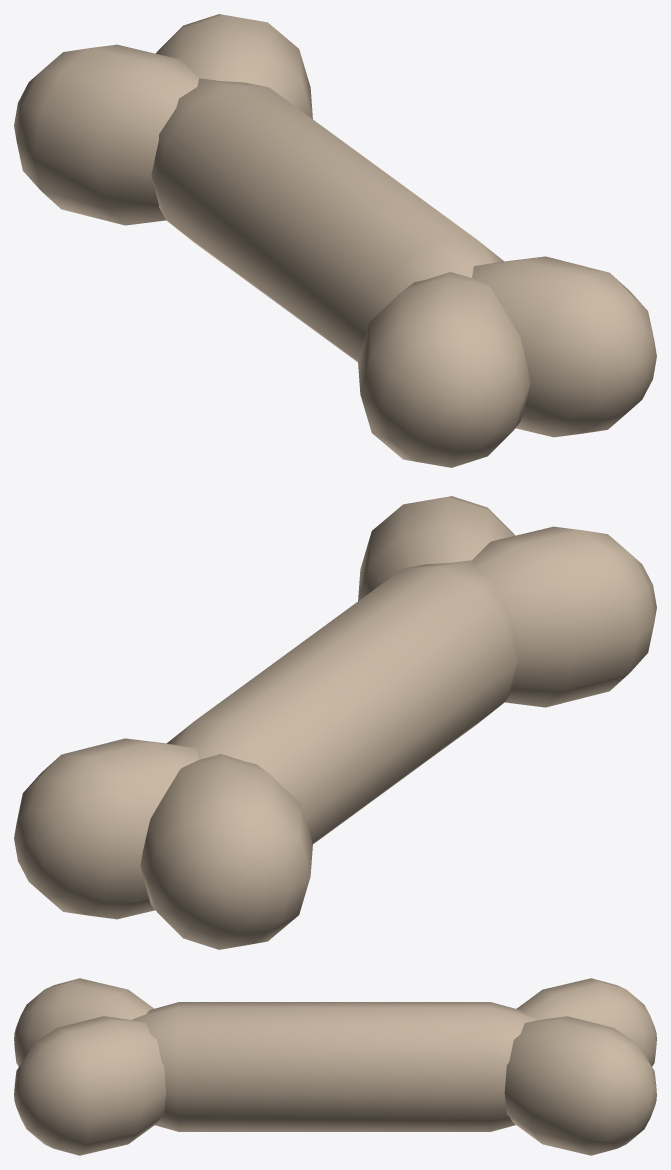
Rendered from Bone 1.fbx.
3 views of the same model, one above another, from view 1: azimuth 30°, elevation 25°; view 2: azimuth 150°, elevation 25°; view 3: azimuth 270°, elevation 25° (orthographic). The views are drawn at different scales.
Visible parts, largest first — view 1: Cylinder.005; view 2: Cylinder.005; view 3: Cylinder.005.
Part boxes in pixels (bbox=[...]): Cylinder.005: bbox=[14, 14, 656, 467]; Cylinder.005: bbox=[14, 496, 656, 949]; Cylinder.005: bbox=[14, 978, 656, 1155].
Bounding box in the file's own units: 368 × 200 × 988.
